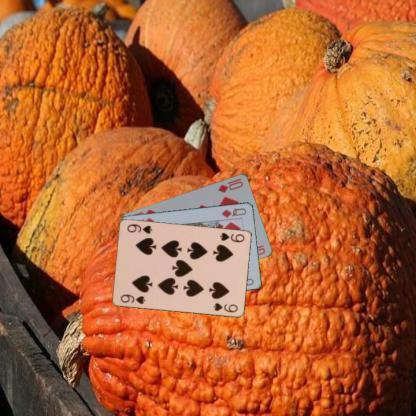10d: (216, 176, 245, 193)
9s: (118, 291, 147, 305), (218, 230, 245, 244)
Qd: (218, 205, 248, 219)
